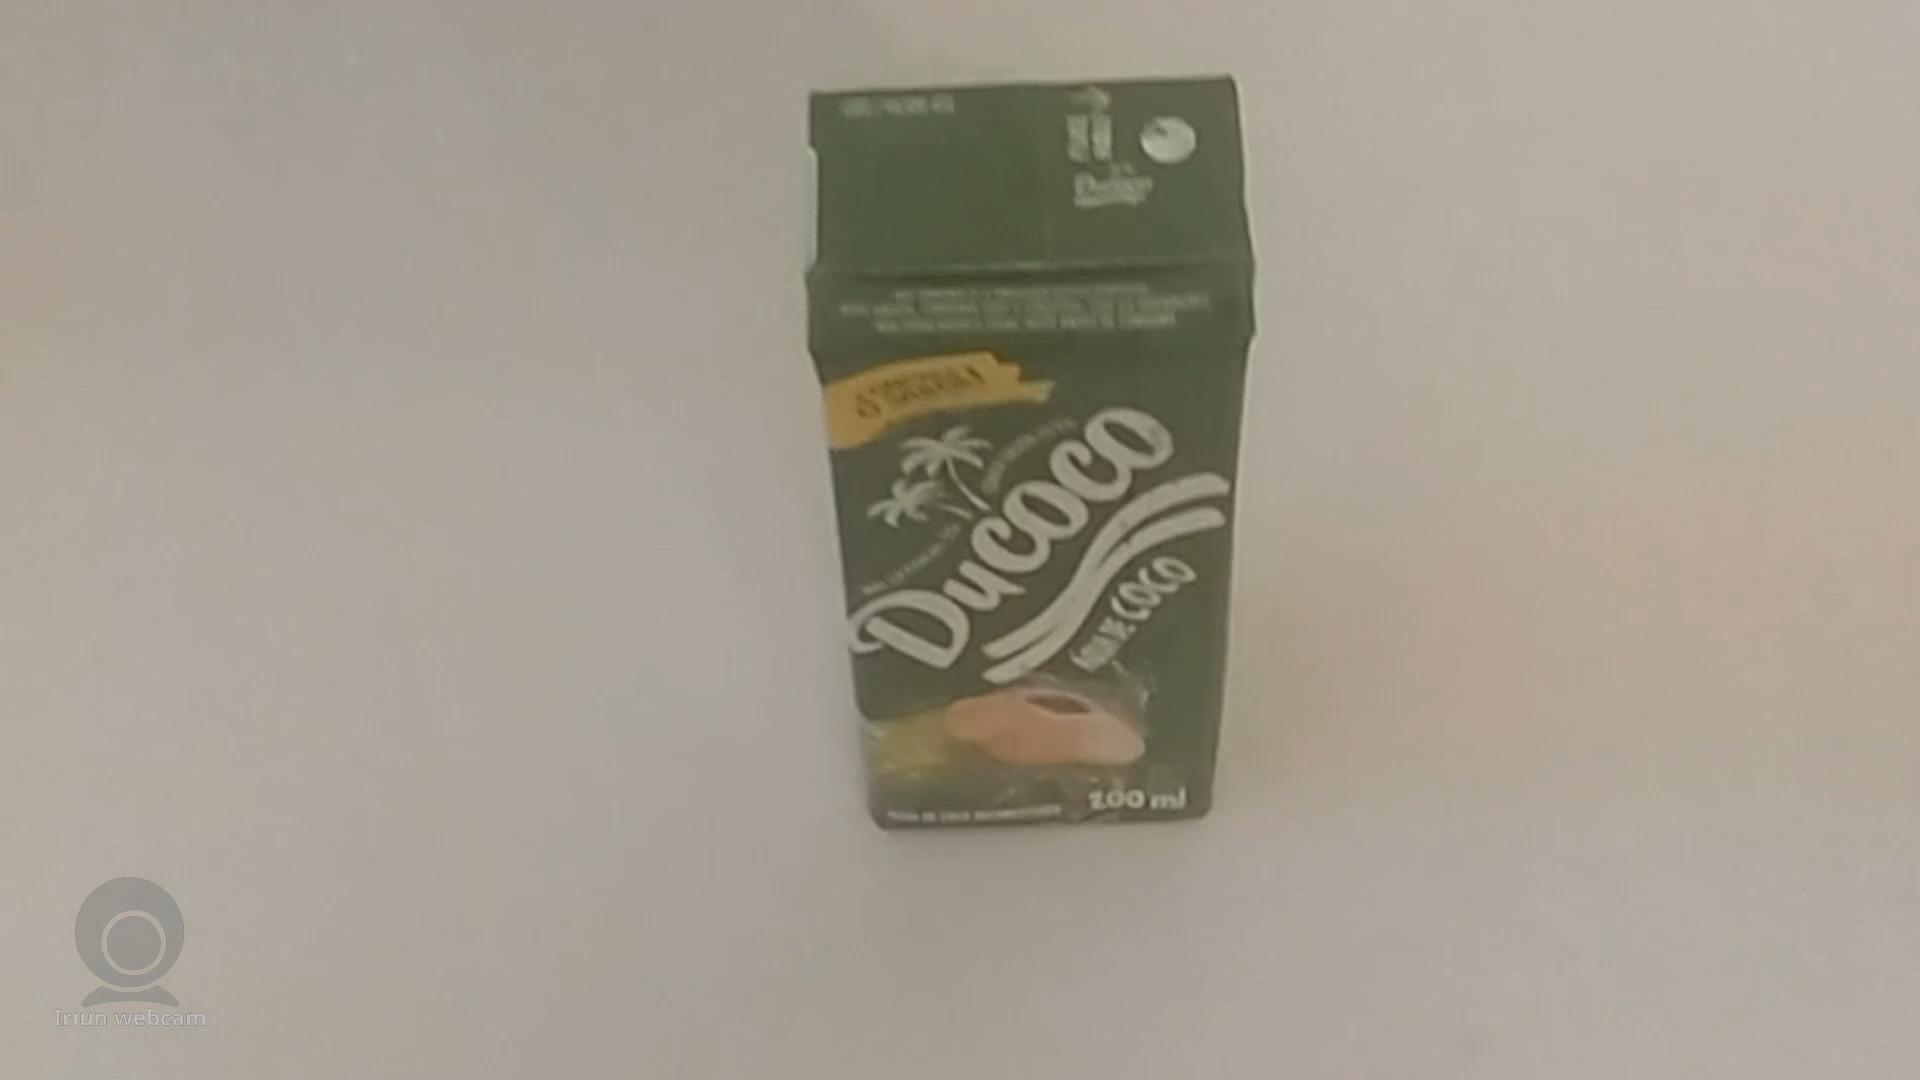coco: (804, 71, 1254, 843)
